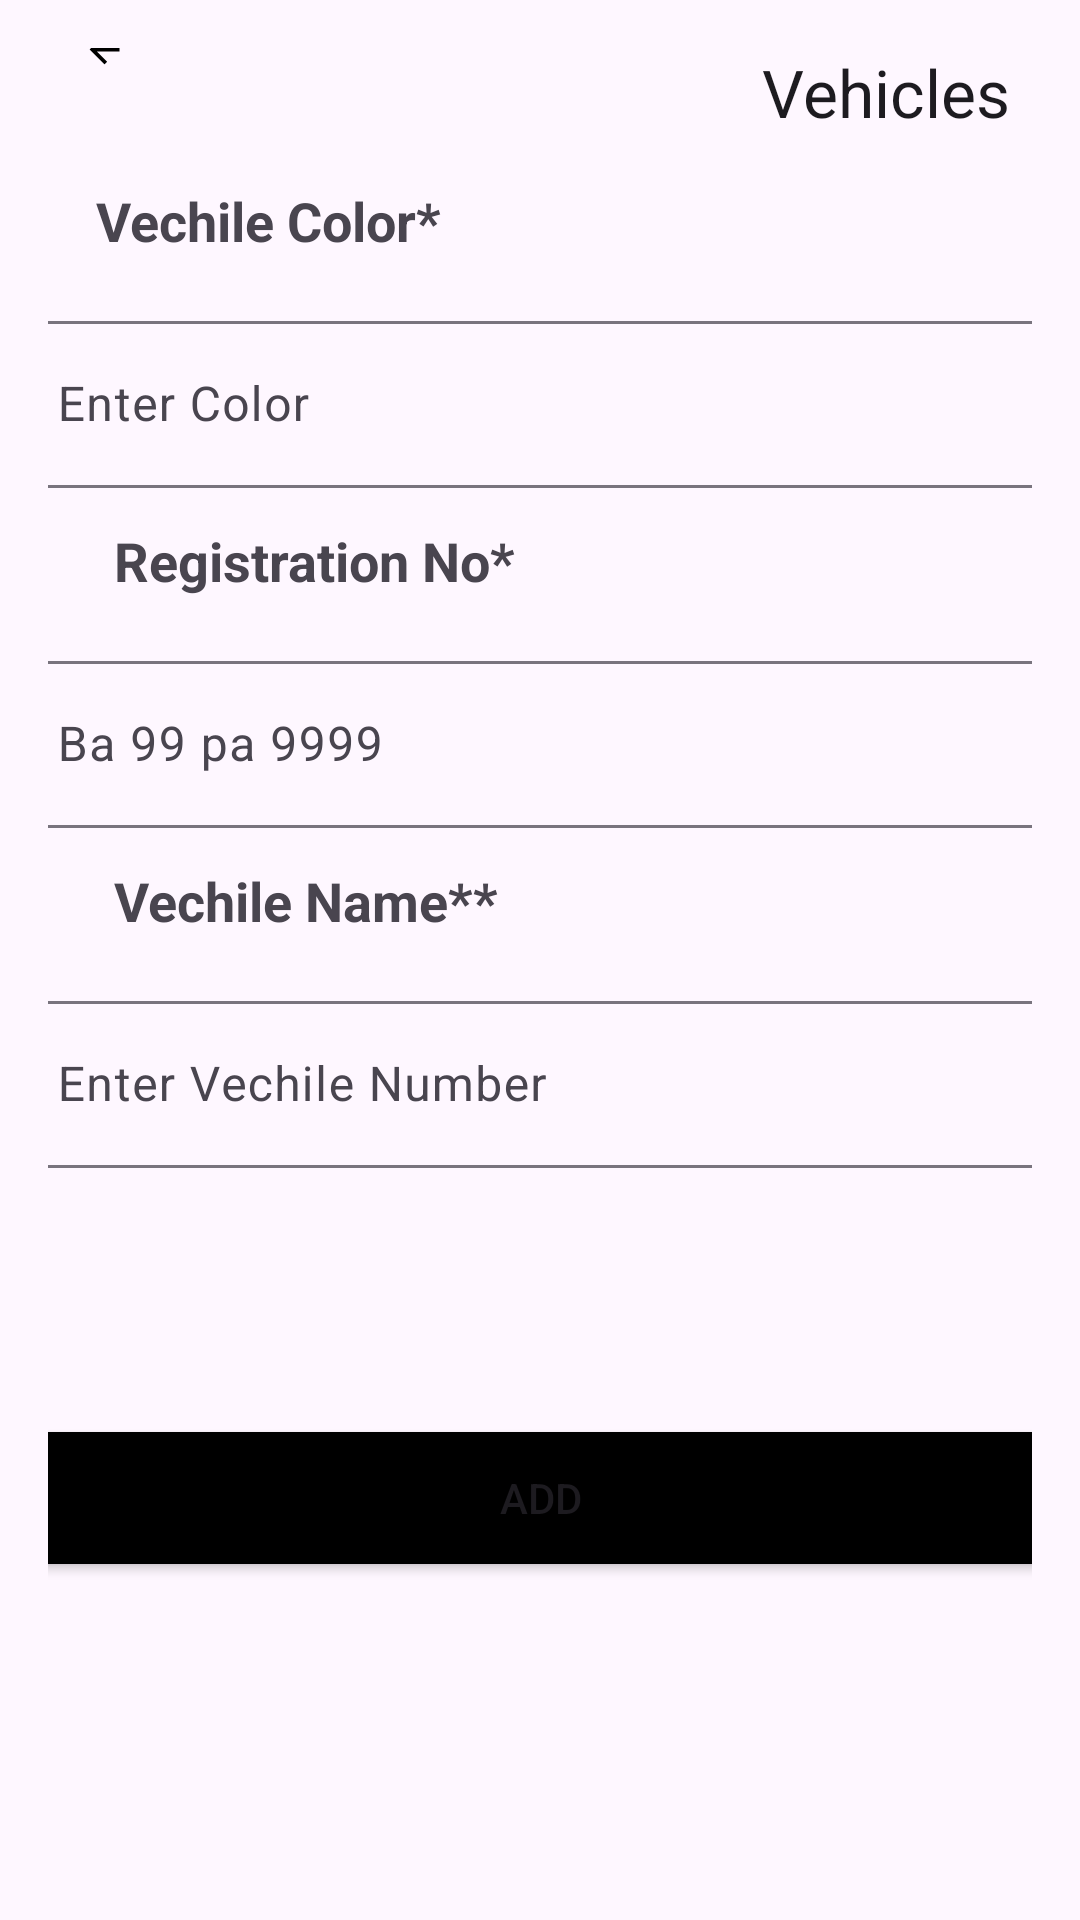

Screen size 1080w x 1920h. Icon name, then its box in pixels as (x1, y1, x2, y2):
back: (89, 48, 120, 65)
